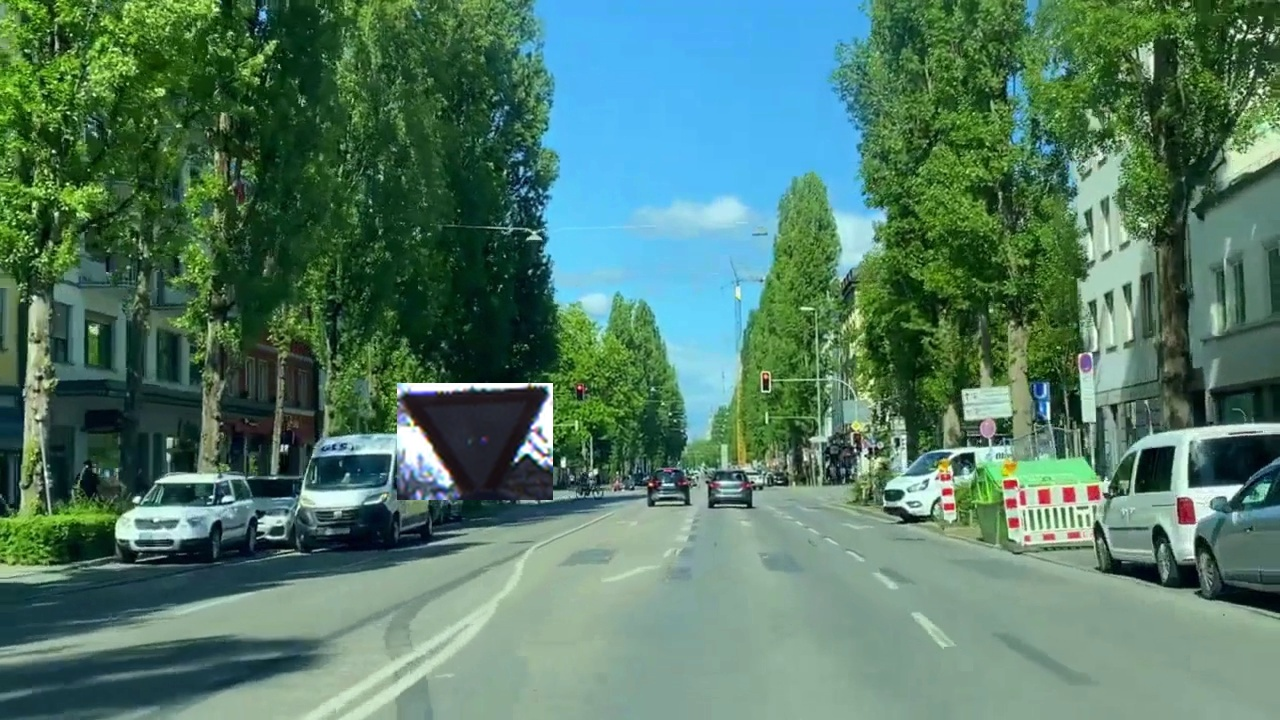Yield: (397, 383, 553, 500)
